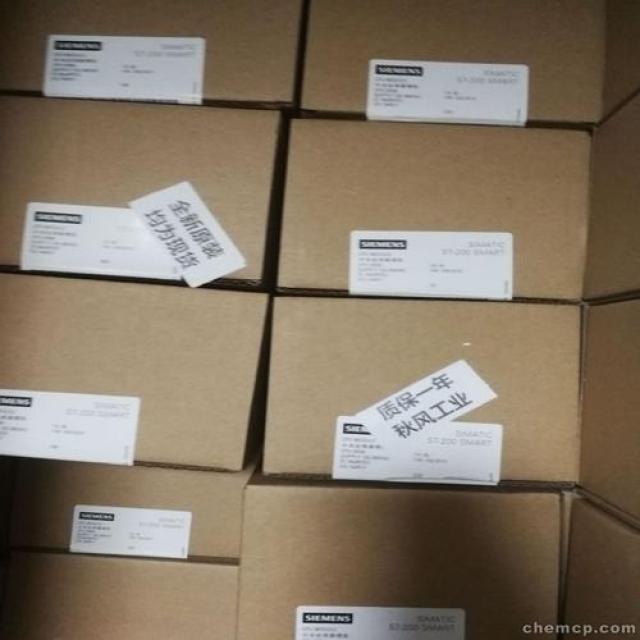box: (261, 298, 581, 487), (276, 115, 593, 303), (235, 459, 564, 637), (0, 273, 270, 472), (0, 95, 281, 286), (296, 1, 606, 125), (0, 1, 305, 110), (0, 453, 261, 561), (581, 302, 639, 525), (580, 92, 639, 298), (559, 496, 639, 636), (596, 3, 639, 119)
